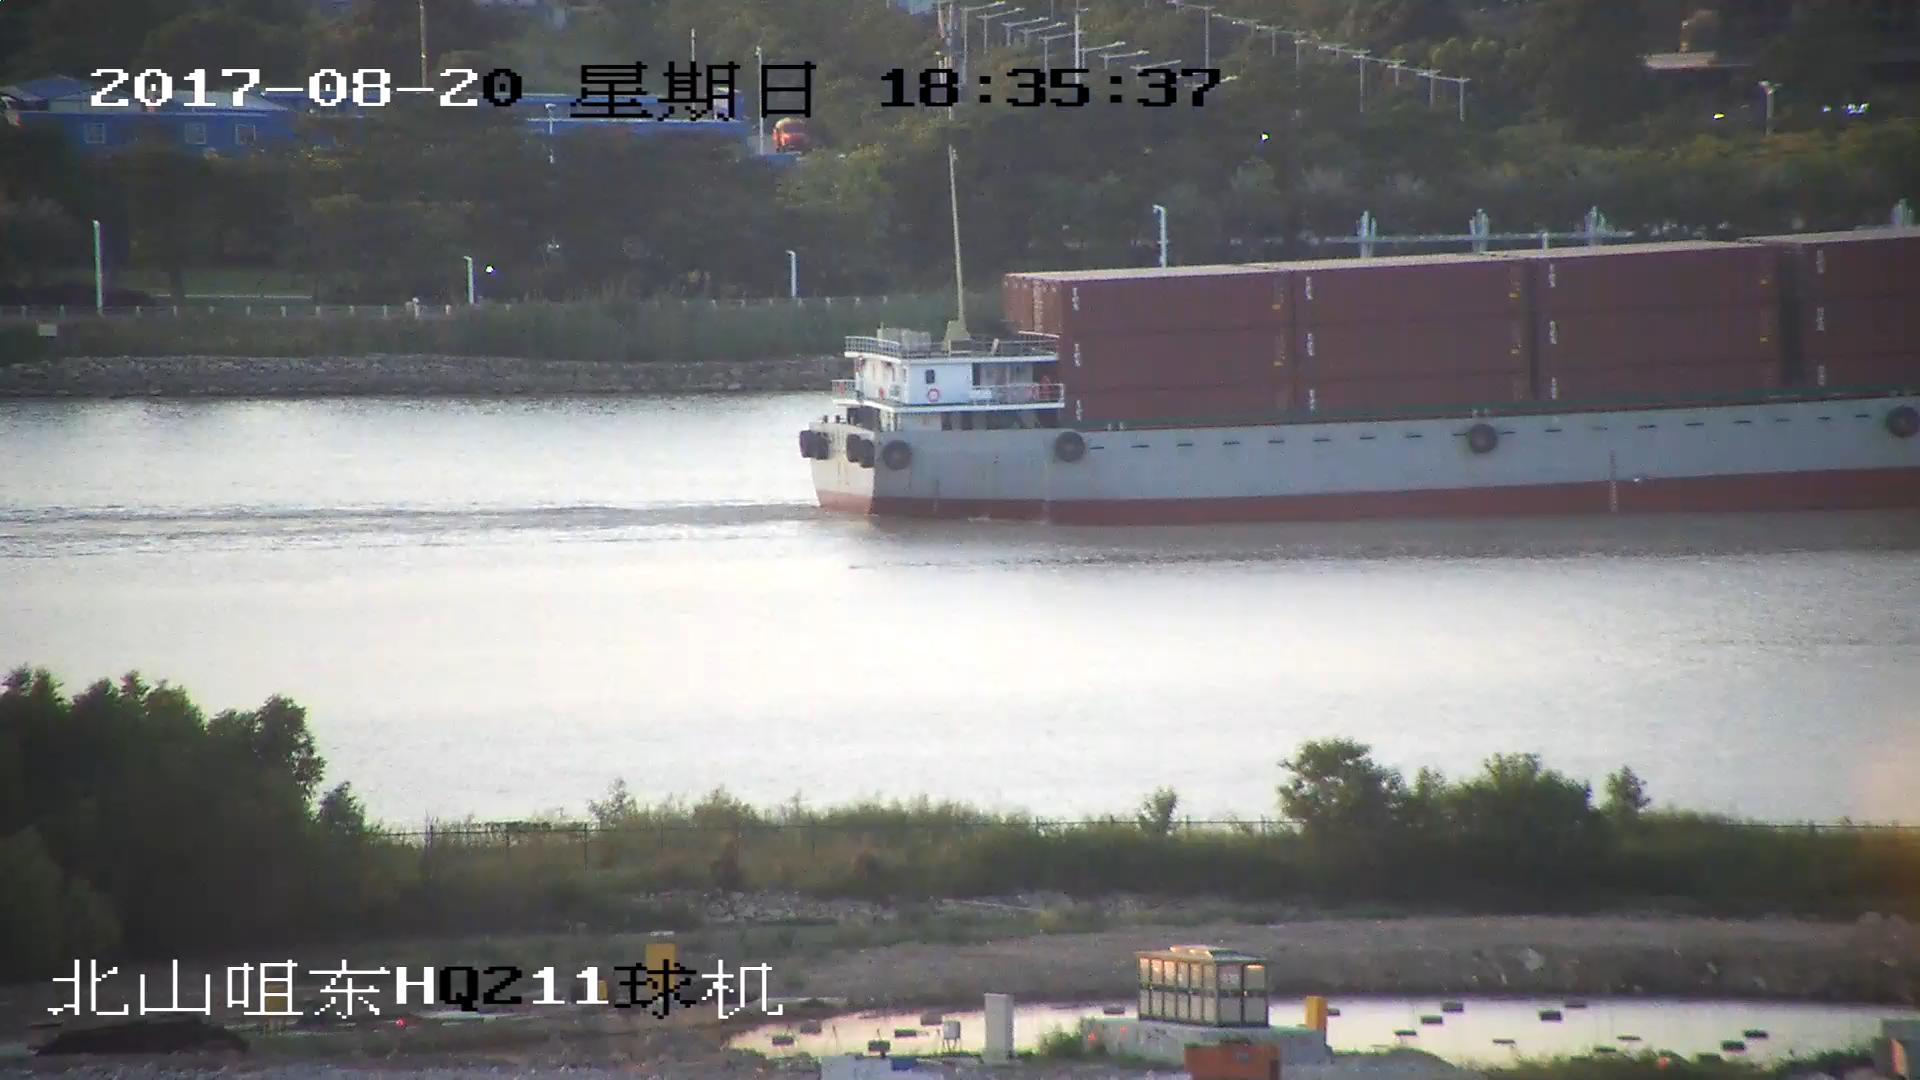container ship: (797, 224, 1920, 526)
